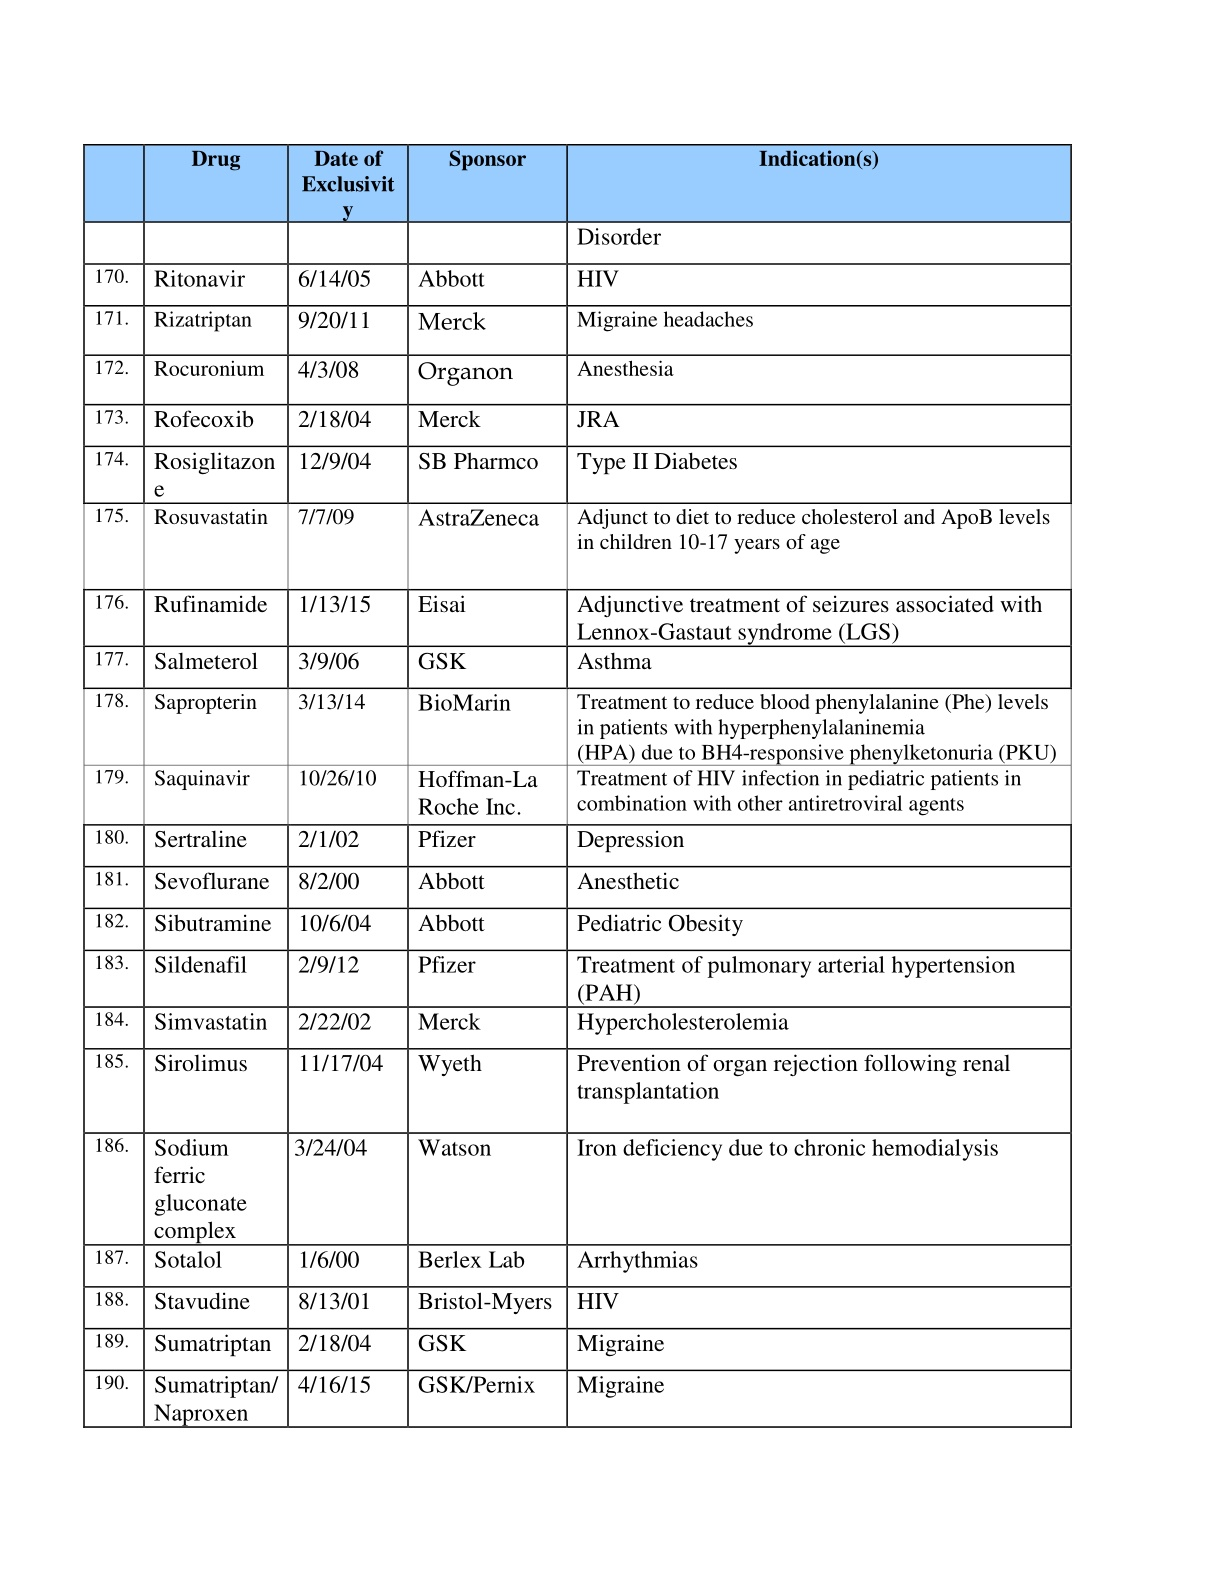full_lined: (82, 143, 1074, 1428)
